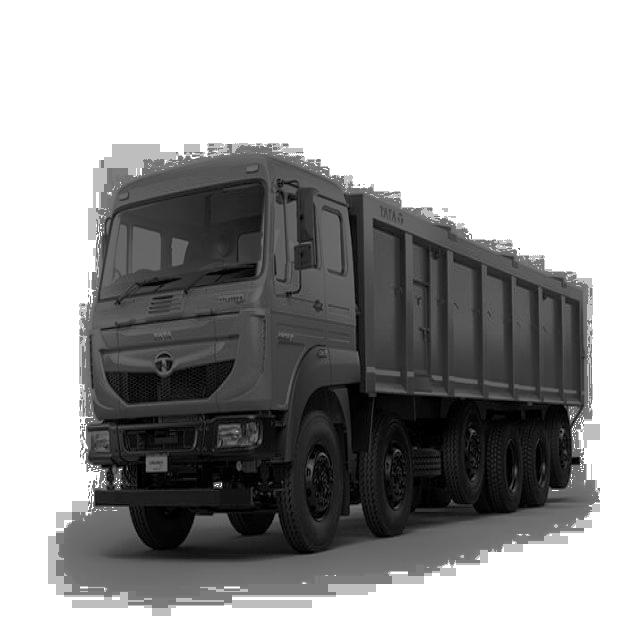HCV: (75, 138, 602, 570)
